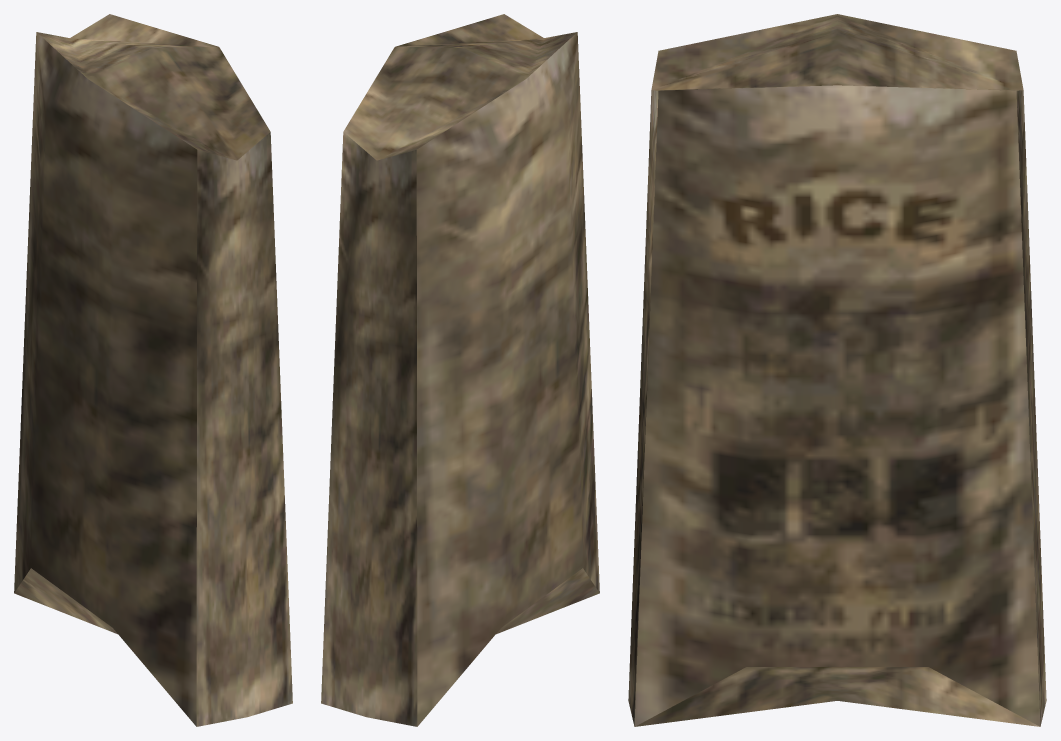
Rendered from sack01.glb.
The picture shows the model from 3 angles, left to right: view 1: azimuth 30°, elevation 25°; view 2: azimuth 150°, elevation 25°; view 3: azimuth 270°, elevation 25°; orthographic projection. The views are drawn at different scales.
Visible parts, largest first — view 1: _sack01; view 2: _sack01; view 3: _sack01.
Boxes of the visible parts, x1,y1,x2,y2 form: _sack01: (14, 14, 292, 726); _sack01: (321, 14, 599, 726); _sack01: (628, 14, 1046, 726).
Bounding box in the file's own units: 0.221 × 0.7765 × 0.4408.
1 material, 1 textured.
